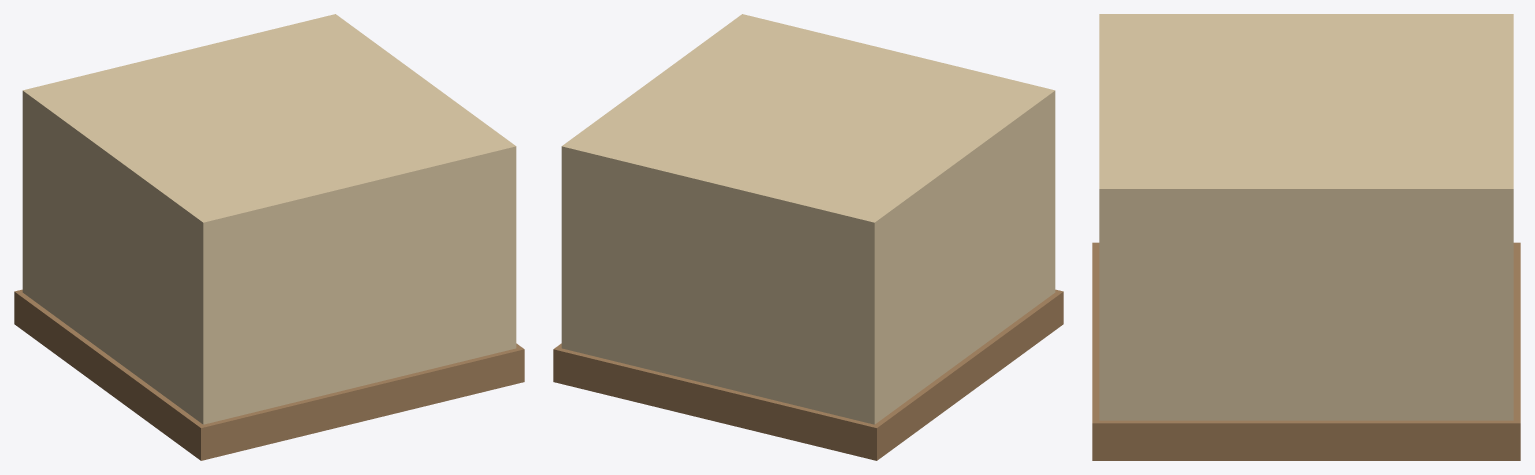
Rendered from escoteiro_manga_sup.glb.
3 renders of one model, left to right at view 1: azimuth 30°, elevation 25°; view 2: azimuth 150°, elevation 25°; view 3: azimuth 270°, elevation 25°, orthographic. The views are drawn at different scales.
Parts seen in each view (by area): view 1: escoteiro_manga_sup; view 2: escoteiro_manga_sup; view 3: escoteiro_manga_sup.
Part boxes in pixels (x1=…): escoteiro_manga_sup: x1=14, y1=14, x2=524, y2=460; escoteiro_manga_sup: x1=553, y1=14, x2=1063, y2=460; escoteiro_manga_sup: x1=1092, y1=14, x2=1520, y2=460.
Size of the model in its own units: 0.31 by 0.215 by 0.31.
